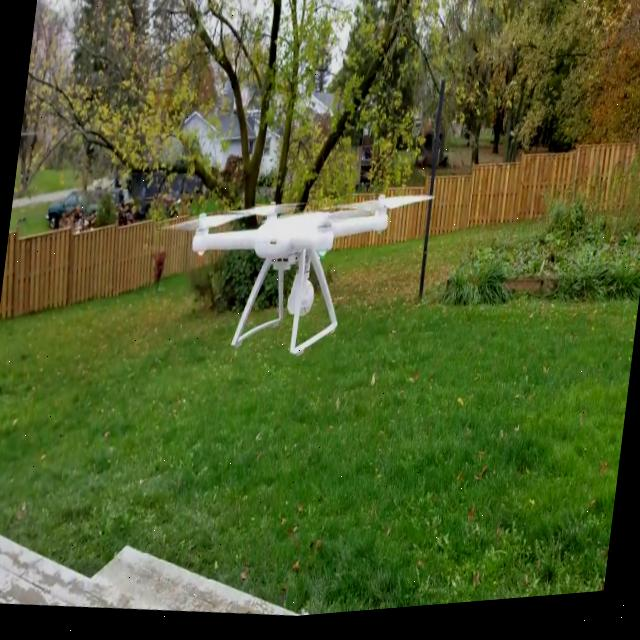drone: (160, 159, 448, 402)
